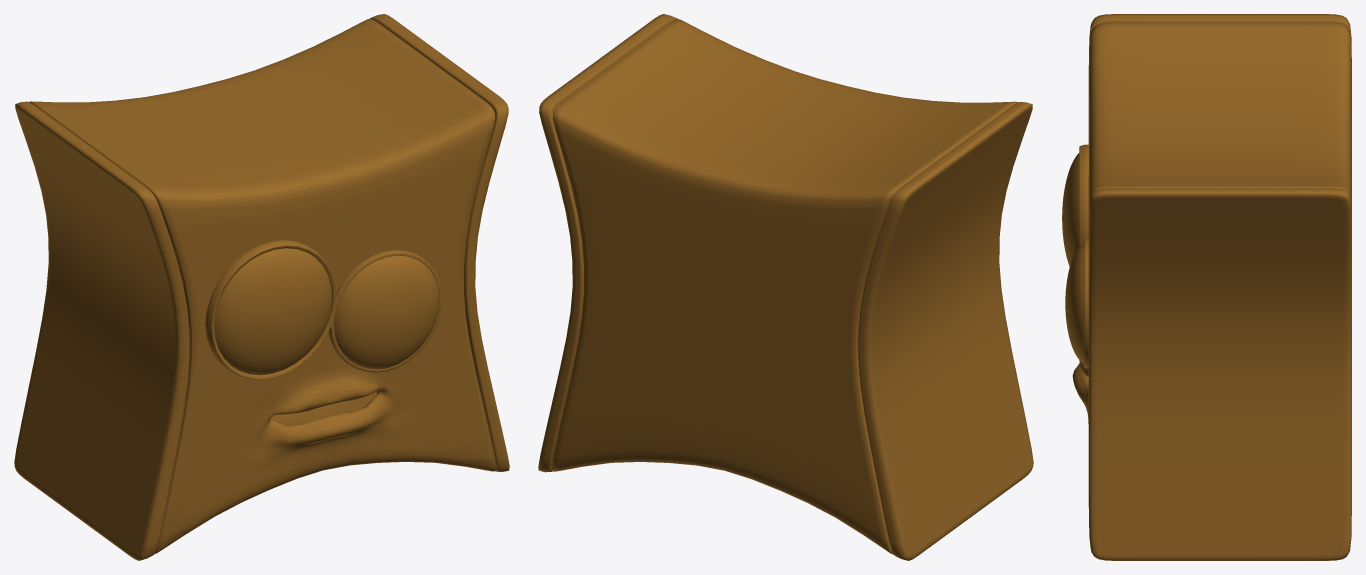
File: glava.obj
3 renders of one model, left to right at view 1: azimuth 30°, elevation 25°; view 2: azimuth 150°, elevation 25°; view 3: azimuth 270°, elevation 25°, orthographic.
Parts seen in each view (by area): view 1: head_; view 2: head_; view 3: head_.
Boxes of the visible parts, left/top/right/bottom form: head_: left=14, top=14, right=509, bottom=560; head_: left=538, top=14, right=1033, bottom=560; head_: left=1062, top=14, right=1351, bottom=560.
Bounding box in the file's own units: 0.655 × 0.6247 × 0.4458.
